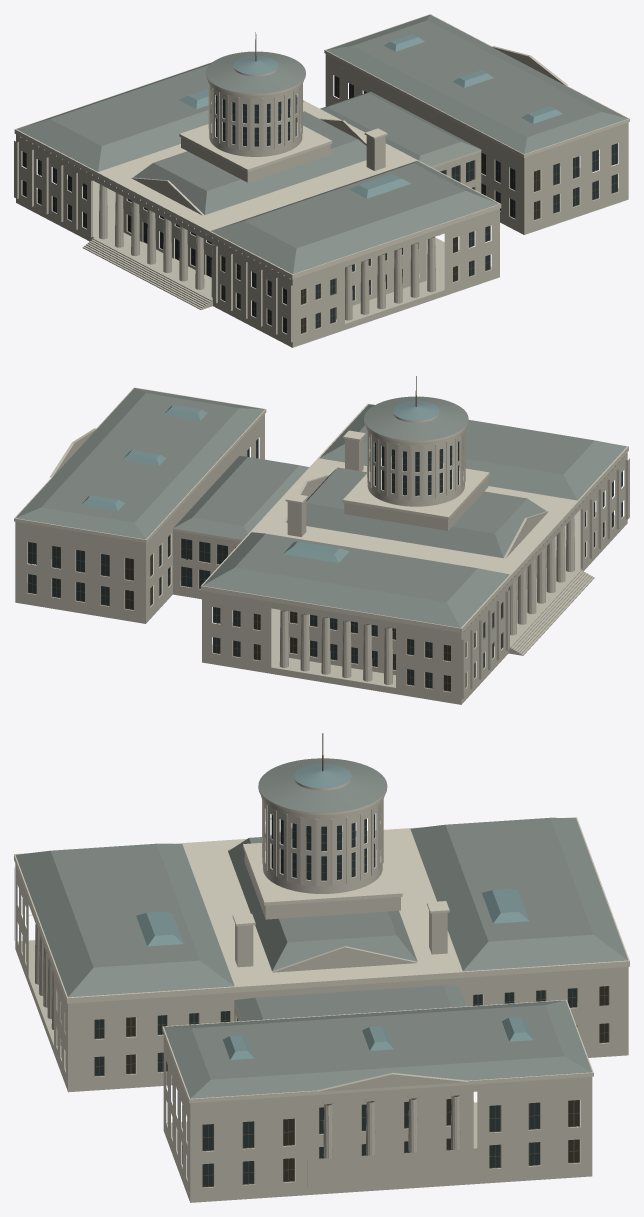
The model's file is ohio-statehouse-near.glb.
The picture shows the model from 3 angles, top to bottom: view 1: azimuth 30°, elevation 25°; view 2: azimuth 150°, elevation 25°; view 3: azimuth 270°, elevation 25°; orthographic projection. The views are drawn at different scales.
Parts seen in each view (by area): view 1: ohio-statehouse-0-roof, ohio-statehouse-0-stone, ohio-statehouse-0-trim, ohio-statehouse-0-glass, ohio-statehouse-0-skylight, ohio-statehouse-0-frame, ohio-statehouse-0-light; view 2: ohio-statehouse-0-roof, ohio-statehouse-0-stone, ohio-statehouse-0-trim, ohio-statehouse-0-glass, ohio-statehouse-0-skylight, ohio-statehouse-0-frame, ohio-statehouse-0-light; view 3: ohio-statehouse-0-roof, ohio-statehouse-0-stone, ohio-statehouse-0-trim, ohio-statehouse-0-glass, ohio-statehouse-0-skylight, ohio-statehouse-0-frame, ohio-statehouse-0-light.
Boxes of the visible parts, bbox=[...] form: ohio-statehouse-0-roof: bbox=[16, 14, 628, 273]; ohio-statehouse-0-stone: bbox=[14, 46, 628, 347]; ohio-statehouse-0-trim: bbox=[14, 14, 629, 279]; ohio-statehouse-0-glass: bbox=[38, 83, 617, 332]; ohio-statehouse-0-skylight: bbox=[179, 34, 562, 198]; ohio-statehouse-0-frame: bbox=[22, 32, 618, 333]; ohio-statehouse-0-light: bbox=[22, 76, 539, 333]; ohio-statehouse-0-roof: bbox=[15, 388, 626, 627]; ohio-statehouse-0-stone: bbox=[15, 414, 629, 704]; ohio-statehouse-0-trim: bbox=[14, 387, 628, 632]; ohio-statehouse-0-glass: bbox=[28, 439, 622, 687]; ohio-statehouse-0-skylight: bbox=[81, 401, 439, 562]; ohio-statehouse-0-frame: bbox=[27, 376, 622, 691]; ohio-statehouse-0-light: bbox=[125, 512, 585, 691]; ohio-statehouse-0-roof: bbox=[15, 758, 628, 1098]; ohio-statehouse-0-stone: bbox=[14, 795, 628, 1202]; ohio-statehouse-0-trim: bbox=[14, 778, 629, 1103]; ohio-statehouse-0-glass: bbox=[22, 814, 576, 1186]; ohio-statehouse-0-skylight: bbox=[136, 764, 533, 1059]; ohio-statehouse-0-frame: bbox=[22, 733, 609, 1187]; ohio-statehouse-0-light: bbox=[126, 986, 608, 1181].
Bounding box in the file's own units: 113 × 48.16 × 100.
